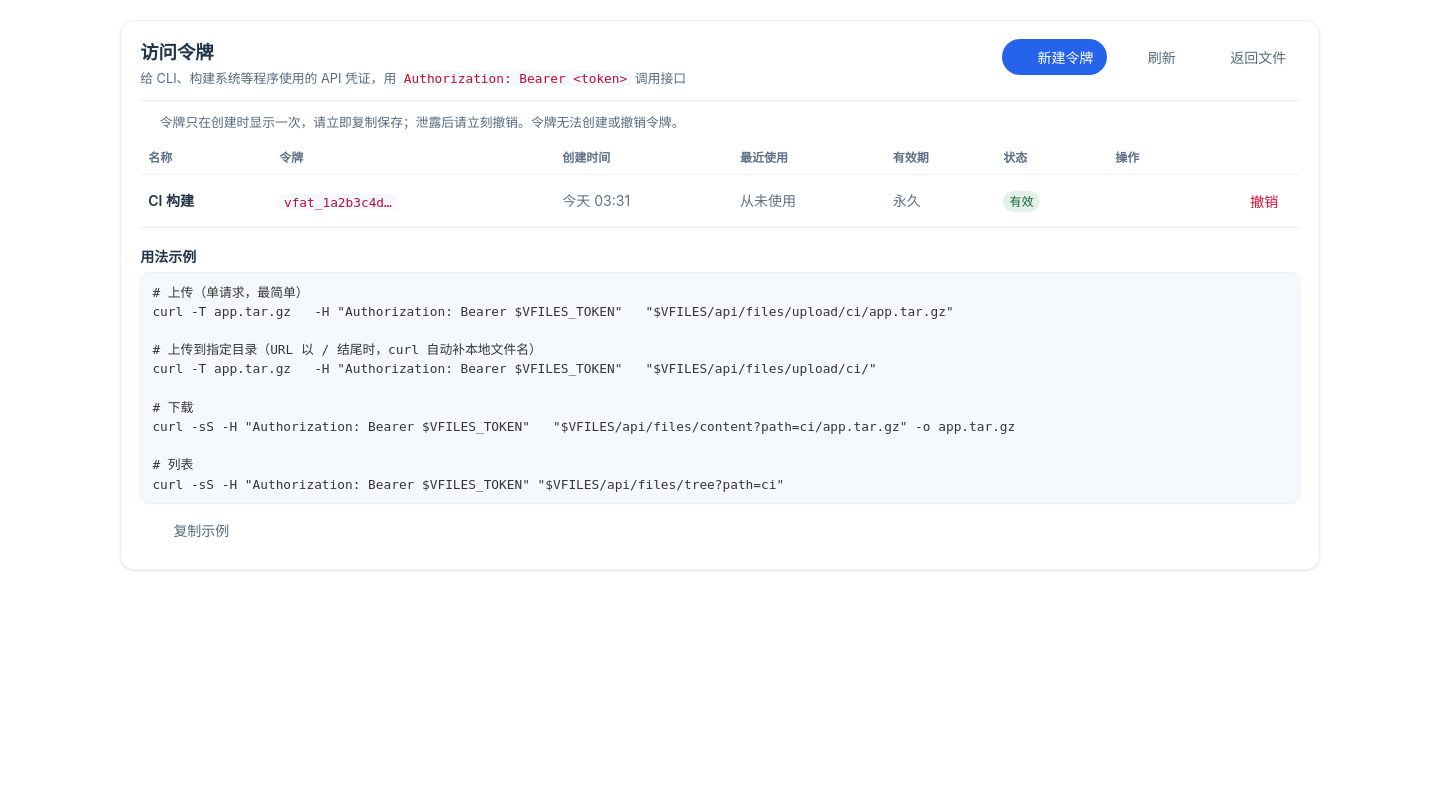
Scenario: AccessTokens.vue › wires the inline error to the field with aria (r86)
Check: the text "CI 构建" is shown, box [140,174,271,227]
Click the button "新建令牌" at (1055, 57), box [1002,39,1107,75]
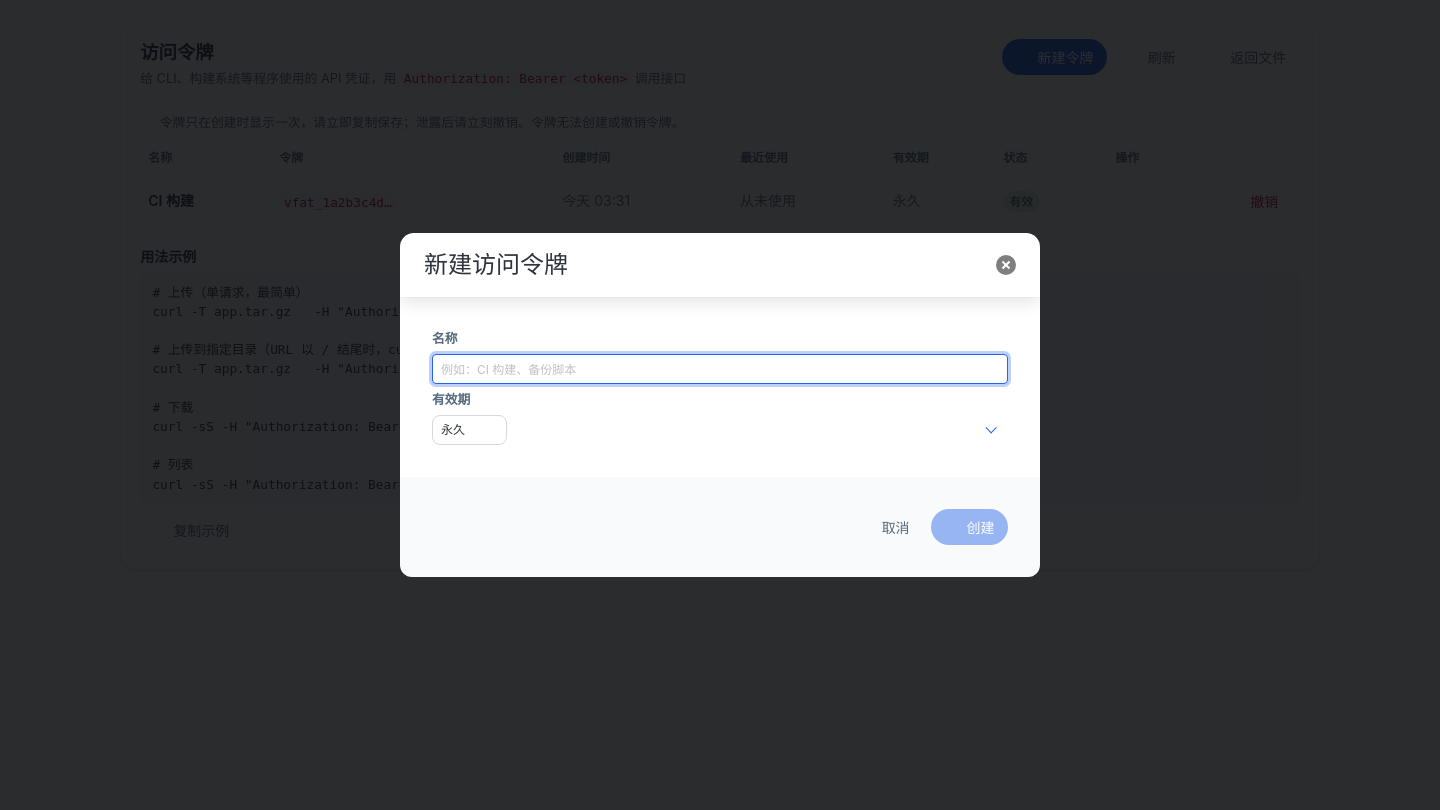
Click the button "创建" at (970, 527), box [931,509,1008,545]
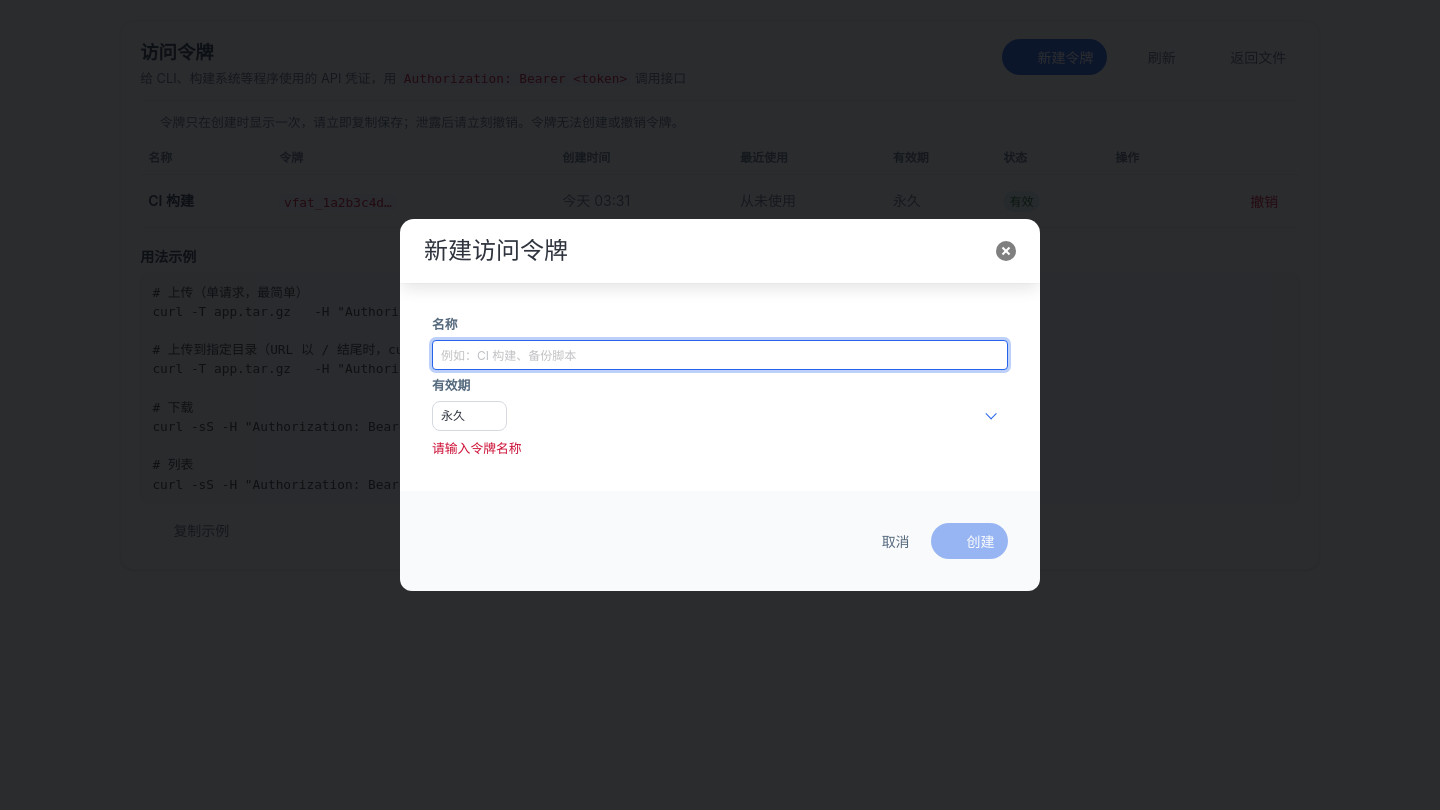
Check: the text "请输入令牌名称" is shown, box [432,441,522,456]
